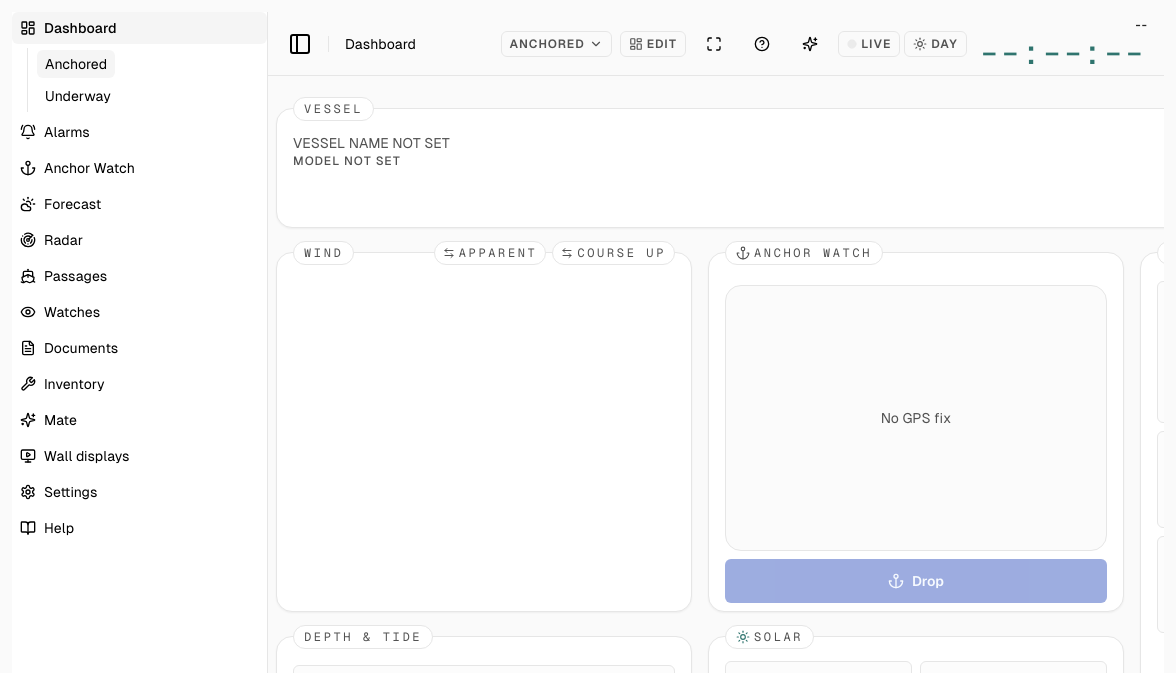
Test case: App sidebar navigation › opens the Mate panel from the sidebar
The width and height of the screenshot is (1176, 673).
Click the button "Mate" at (140,420), box [12,404,267,436]
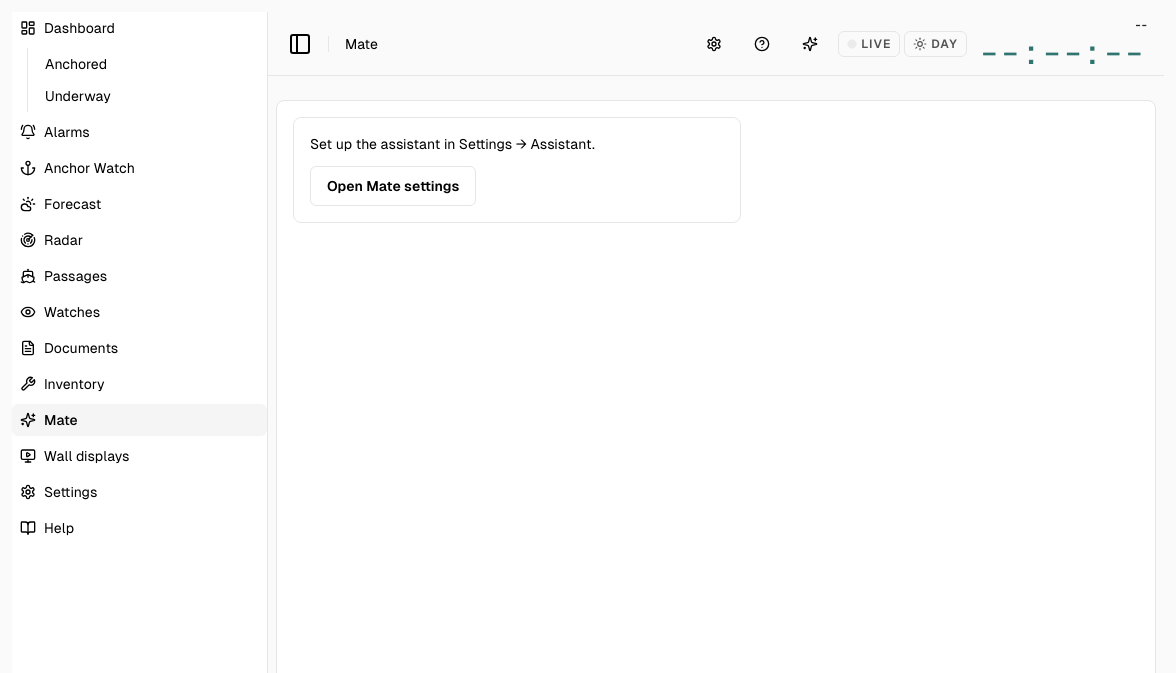
Now the element with test id "assistant-drawer" is shown, box [293,117,741,223]
